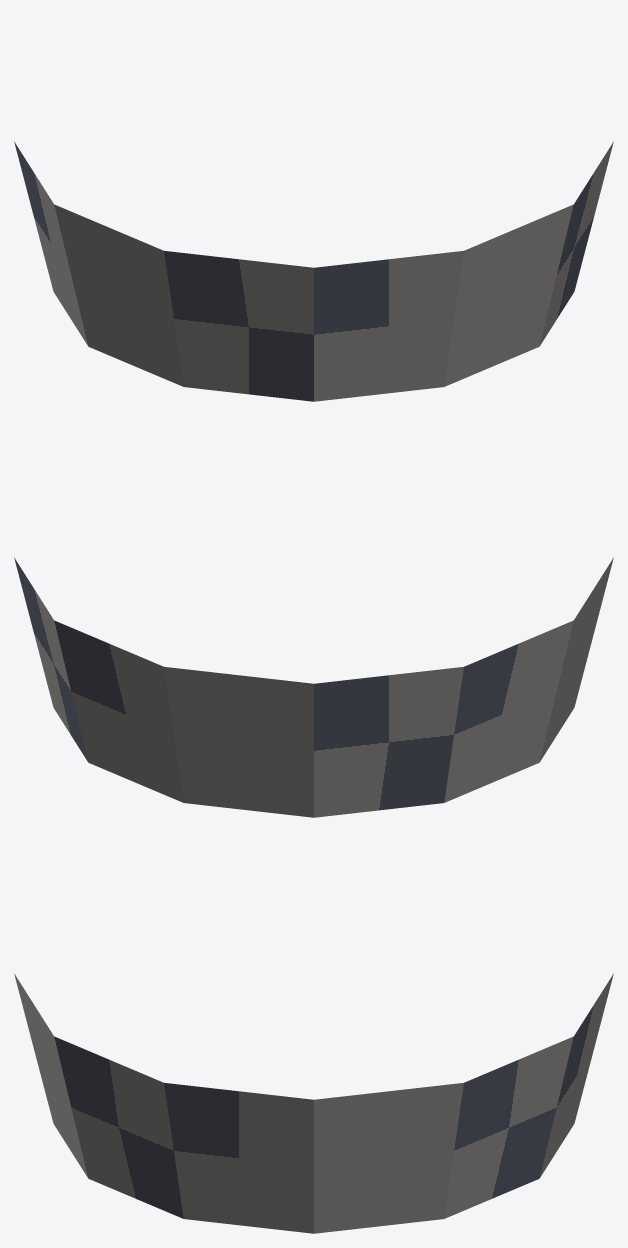
The model's file is net1.glb.
3 renders of one model, top to bottom at view 1: azimuth 30°, elevation 25°; view 2: azimuth 150°, elevation 25°; view 3: azimuth 270°, elevation 25°, orthographic.
Parts seen in each view (by area): view 1: Net1; view 2: Net1; view 3: Net1.
Part boxes in pixels (box(x1,y1,x2,y2)): Net1: box(14, 141, 613, 401); Net1: box(14, 557, 613, 817); Net1: box(14, 973, 613, 1233).
Bounding box in the file's own units: 0.5834 × 0.1617 × 0.5834.
Materials: 1 (1 with a texture image).
